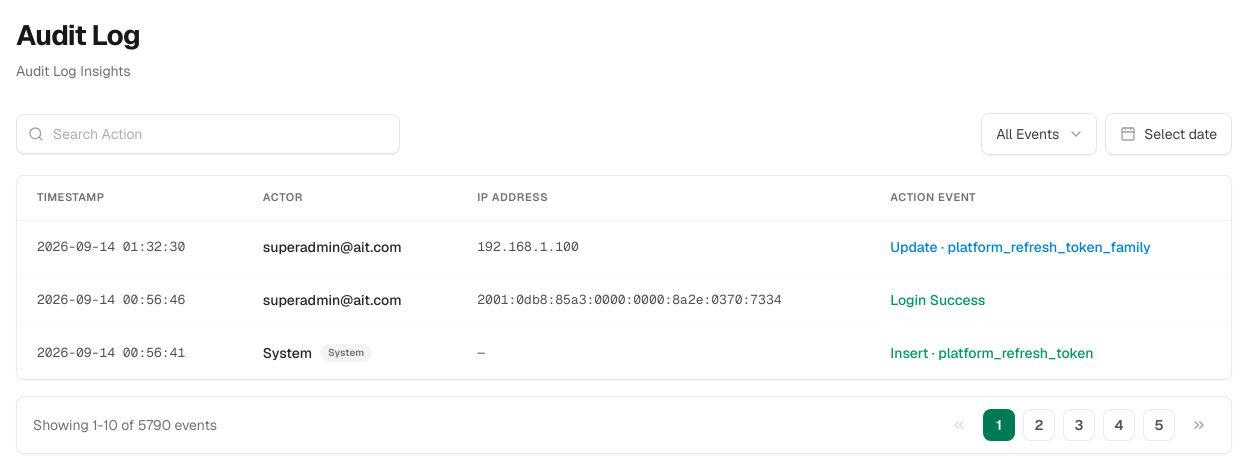
Test: Admin Route Group & Pages › AdminAuditLogPage › renders page header, search input, date filter, and structured table with events
Expected: the heading "Audit Log" is shown, [16, 16, 140, 55]
Expected: the text "Audit Log Insights" is shown, [16, 61, 140, 81]
Type "2026-09-14" into the date field labelled "Select date" at (1169, 134), box [1105, 113, 1232, 155]
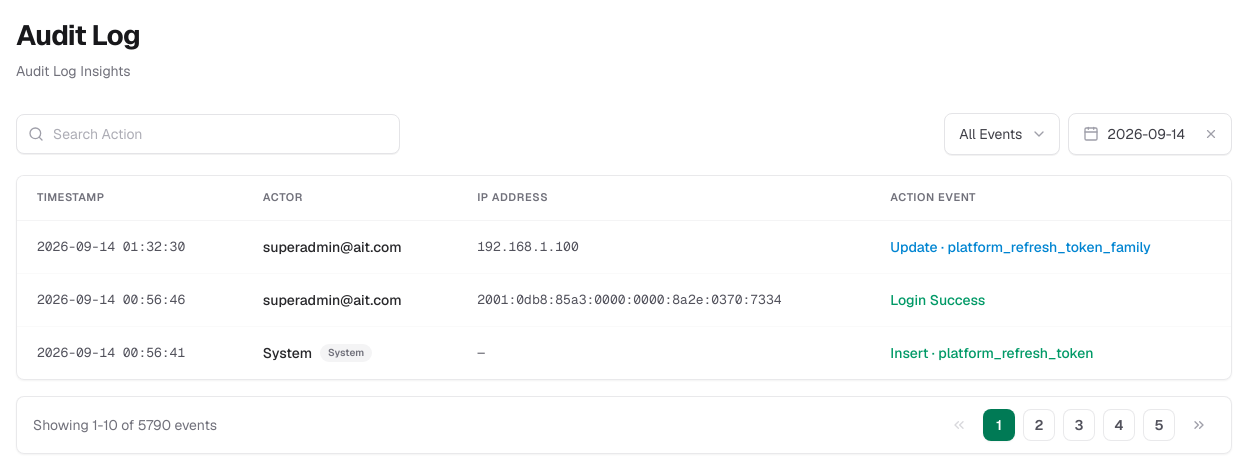
Result: the text "2026-09-14" is shown at [1107, 124, 1185, 144]
Result: the button named "Clear date" is shown
Click the button named "Clear date" at (1211, 134), box [1199, 122, 1223, 146]
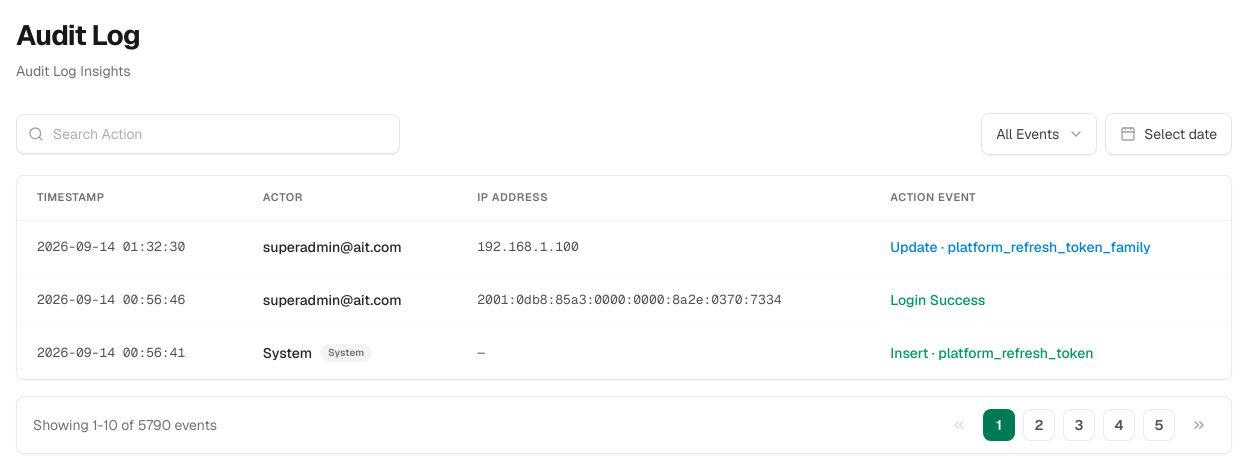
Expected: the text "Showing 1-10 of 5790 events" is shown, [33, 415, 217, 435]
Result: the text "Select date" is shown at [1144, 124, 1217, 144]
